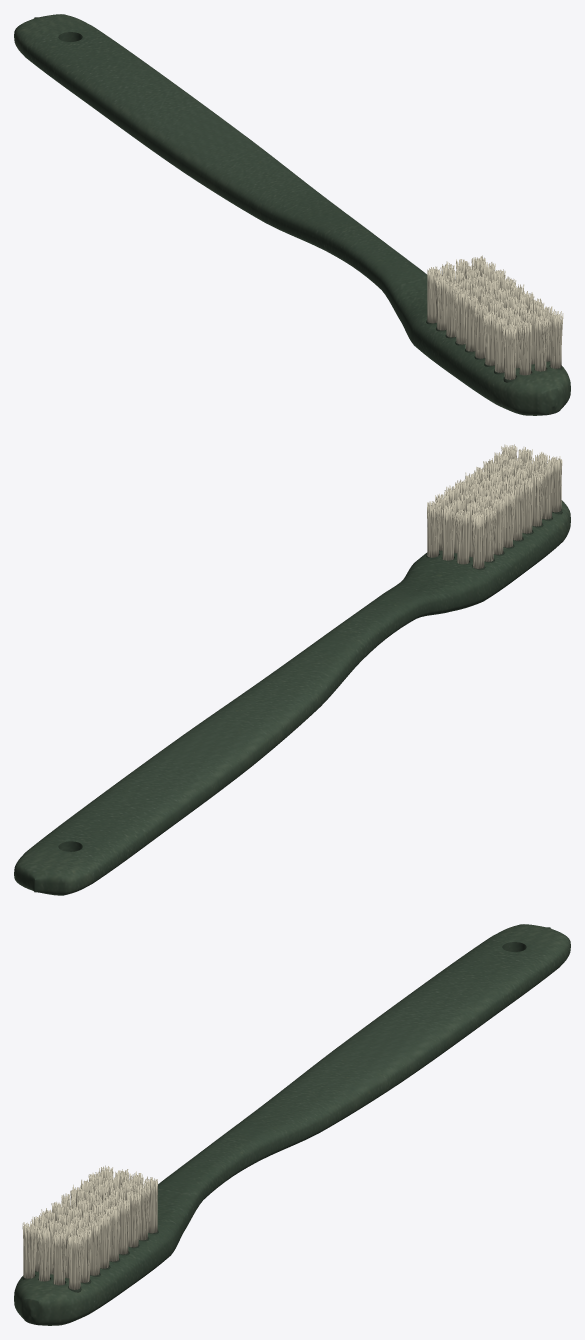
The model's file is brush.glb.
3 renders of one model, top to bottom at view 1: azimuth 30°, elevation 25°; view 2: azimuth 150°, elevation 25°; view 3: azimuth 330°, elevation 25°, orthographic.
Parts seen in each view (by area): view 1: GEO-Brush-Handle, GEO-Brush-Filaments; view 2: GEO-Brush-Handle, GEO-Brush-Filaments; view 3: GEO-Brush-Handle, GEO-Brush-Filaments.
Part boxes in pixels (x1,y1,x2,y2): GEO-Brush-Handle: [14, 14, 570, 415]; GEO-Brush-Filaments: [427, 255, 563, 379]; GEO-Brush-Handle: [14, 500, 570, 895]; GEO-Brush-Filaments: [427, 444, 562, 568]; GEO-Brush-Handle: [14, 924, 570, 1325]; GEO-Brush-Filaments: [22, 1165, 157, 1289].
Bounding box in the file's own units: 0.0127 × 0.0134 × 0.145.
Materials: 3 (3 with a texture image).
